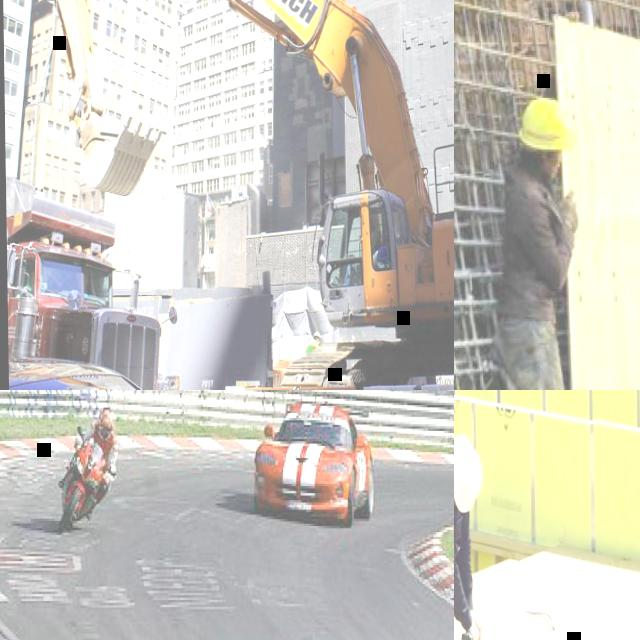Hardhat: (519, 95, 569, 153), (454, 437, 483, 516), (98, 409, 112, 439), (312, 333, 319, 341)
NO-Mask: (537, 154, 558, 177)
NO-Safety Vest: (499, 164, 559, 323), (93, 428, 115, 462)
Person: (488, 86, 595, 390), (84, 405, 119, 515), (302, 333, 319, 355)
Safety Vest: (304, 342, 316, 356)
vehicle: (48, 0, 454, 390), (5, 195, 183, 390), (249, 398, 375, 530), (6, 356, 251, 390)
